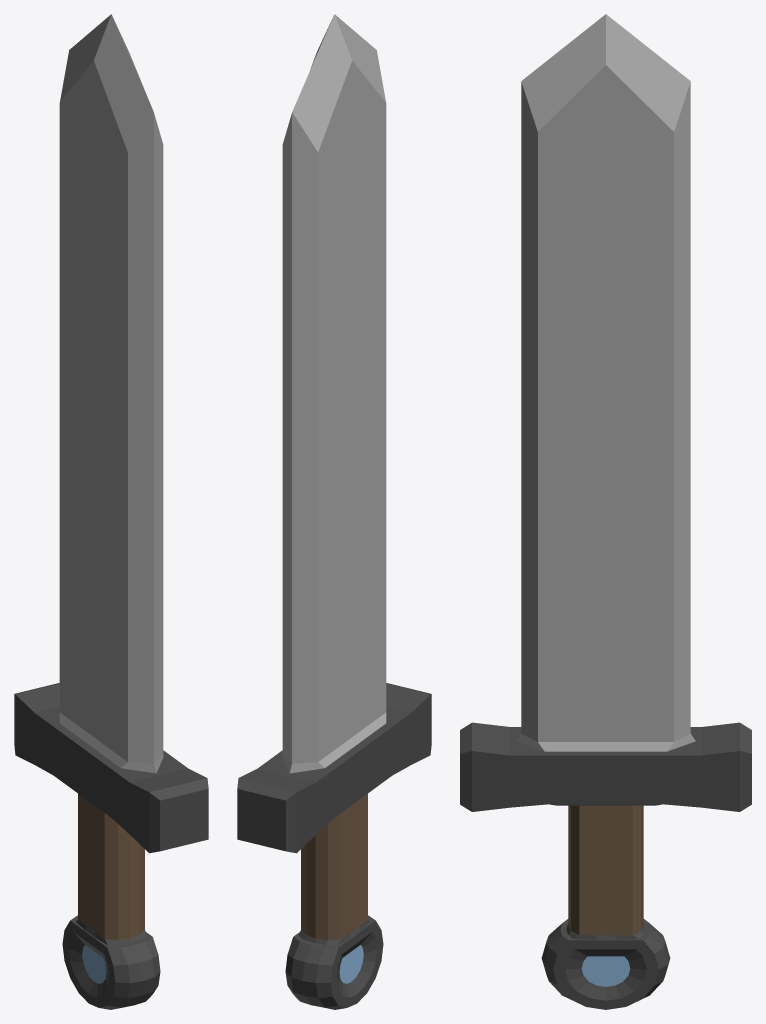
Rendered from blocksword.fbx.
The picture shows the model from 3 angles, left to right: view 1: azimuth 30°, elevation 25°; view 2: azimuth 150°, elevation 25°; view 3: azimuth 270°, elevation 25°; orthographic projection.
Visible parts, largest first — view 1: Cube.001; view 2: Cube.001; view 3: Cube.001.
Boxes of the visible parts, left/top/right/bottom form: Cube.001: left=14, top=14, right=208, bottom=1009; Cube.001: left=237, top=14, right=431, bottom=1009; Cube.001: left=460, top=14, right=751, bottom=1009.
Bounding box in the file's own units: 5.58 × 90.19 × 24.14.
